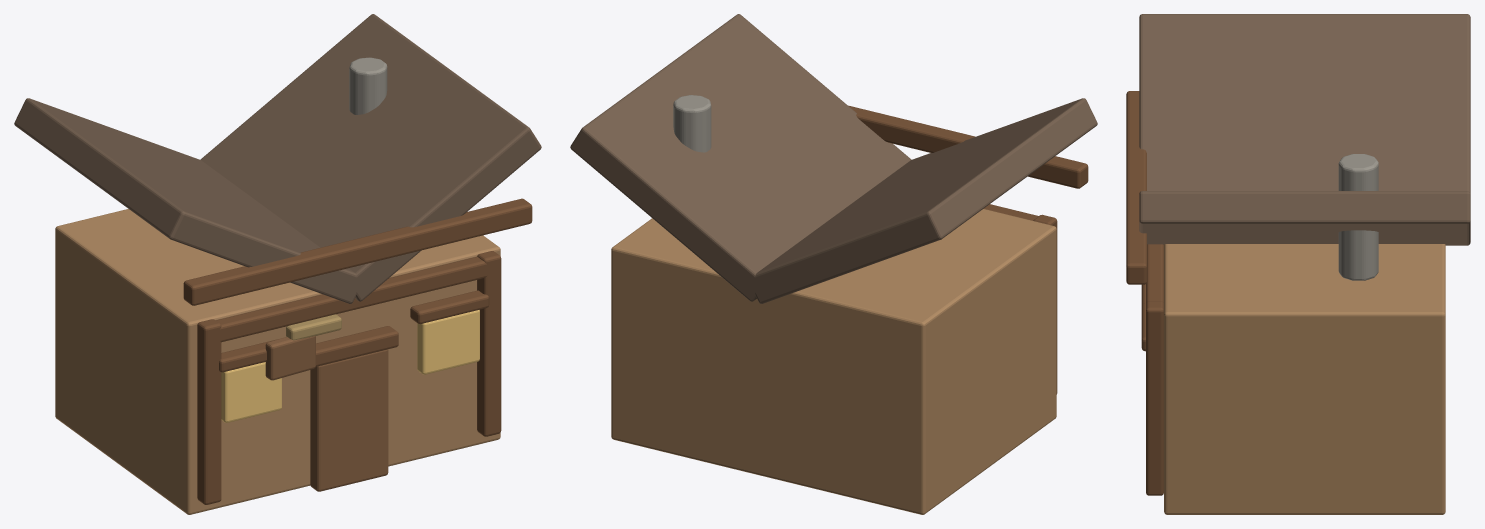
File: woodland-lodge-01.glb
3 renders of one model, left to right at view 1: azimuth 30°, elevation 25°; view 2: azimuth 150°, elevation 25°; view 3: azimuth 270°, elevation 25°, orthographic. The views are drawn at different scales.
Parts seen in each view (by area): view 1: woodland-lodge-01; view 2: woodland-lodge-01; view 3: woodland-lodge-01.
Part boxes in pixels (left/top/right/bottom): woodland-lodge-01: left=14, top=14, right=541, bottom=514; woodland-lodge-01: left=570, top=14, right=1097, bottom=514; woodland-lodge-01: left=1126, top=14, right=1470, bottom=514.
Size of the model in its own units: 0.5455 by 0.445 by 0.4155.
